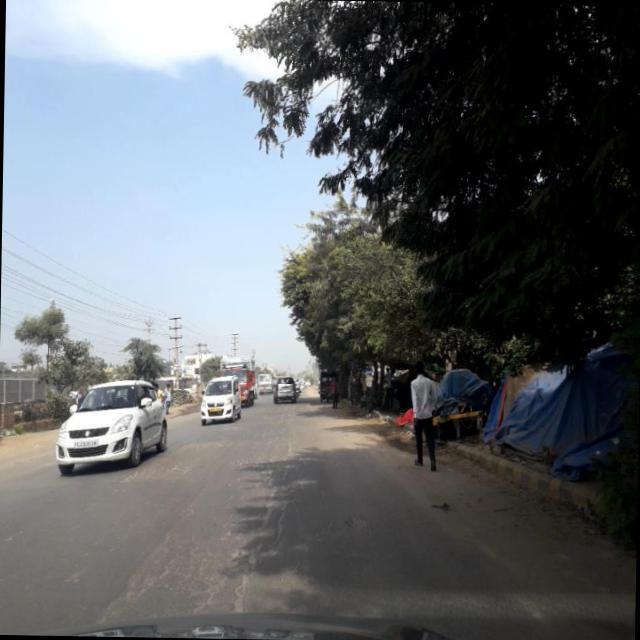crack: (116, 500, 250, 620), (234, 434, 296, 608), (143, 446, 215, 478)
